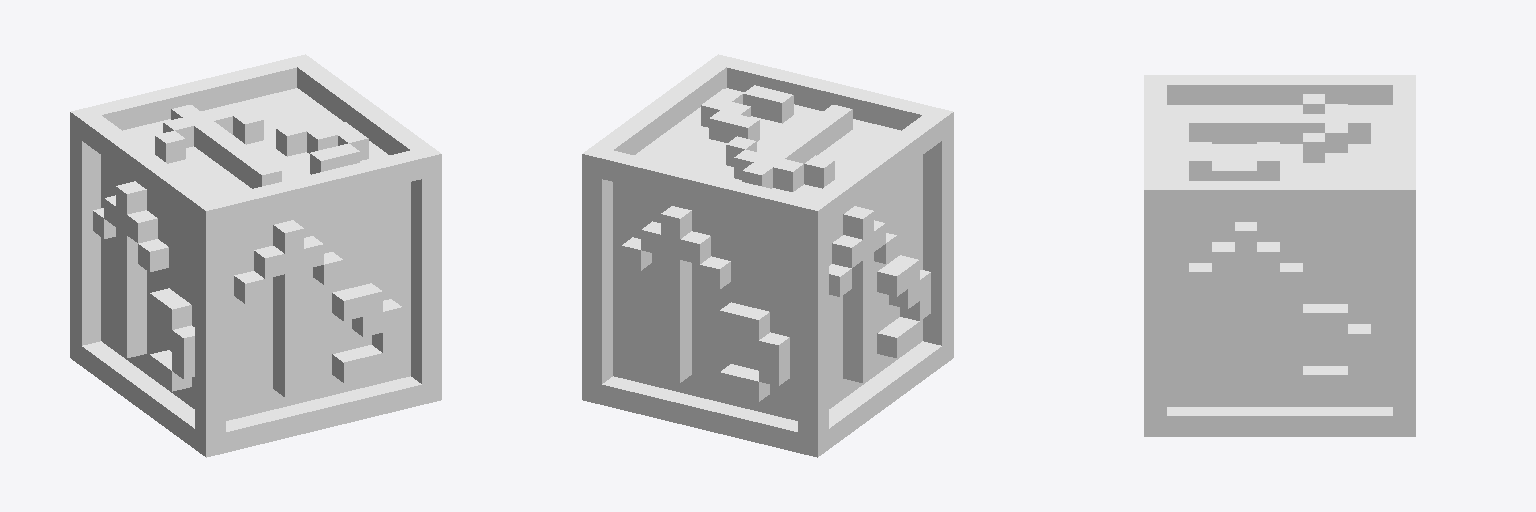
The model's file is height_point_3.obj.
3 views of the same model, side by side, from view 1: azimuth 30°, elevation 25°; view 2: azimuth 150°, elevation 25°; view 3: azimuth 270°, elevation 25° (orthographic).
Visible parts, largest first — view 1: object 1; view 2: object 1; view 3: object 1.
Part boxes in pixels (x1,y1,x2,y2): object 1: (70,54,441,457); object 1: (582,54,953,457); object 1: (1144,75,1415,436).
Size of the model in its own units: 1.2 by 1.2 by 1.2.